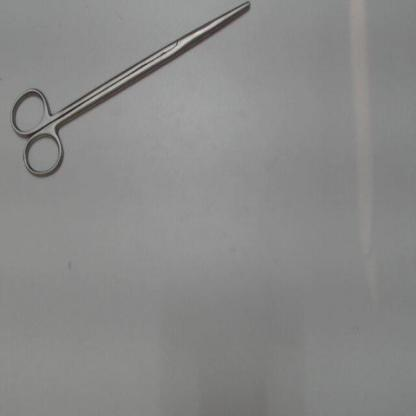9 Metzenbaum Scissors: (5, 1, 256, 189)
